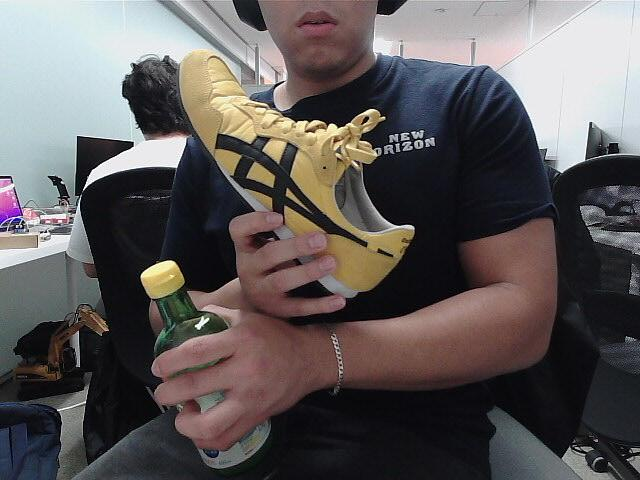Lemon_sapporo: (138, 259, 284, 472)
Shoes: (178, 45, 418, 307)
